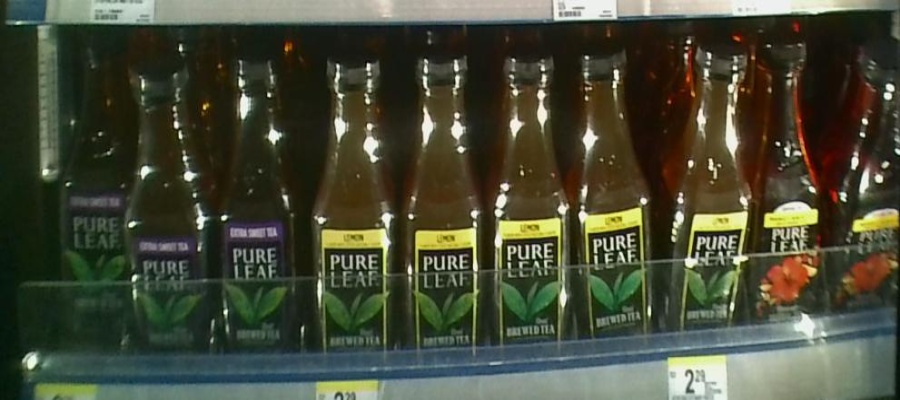bottle: (303, 47, 399, 364), (488, 42, 573, 374), (401, 44, 485, 372), (215, 54, 302, 360), (665, 33, 749, 349), (129, 53, 213, 365), (575, 43, 658, 357), (752, 20, 826, 339), (58, 42, 127, 356), (829, 38, 900, 325)
